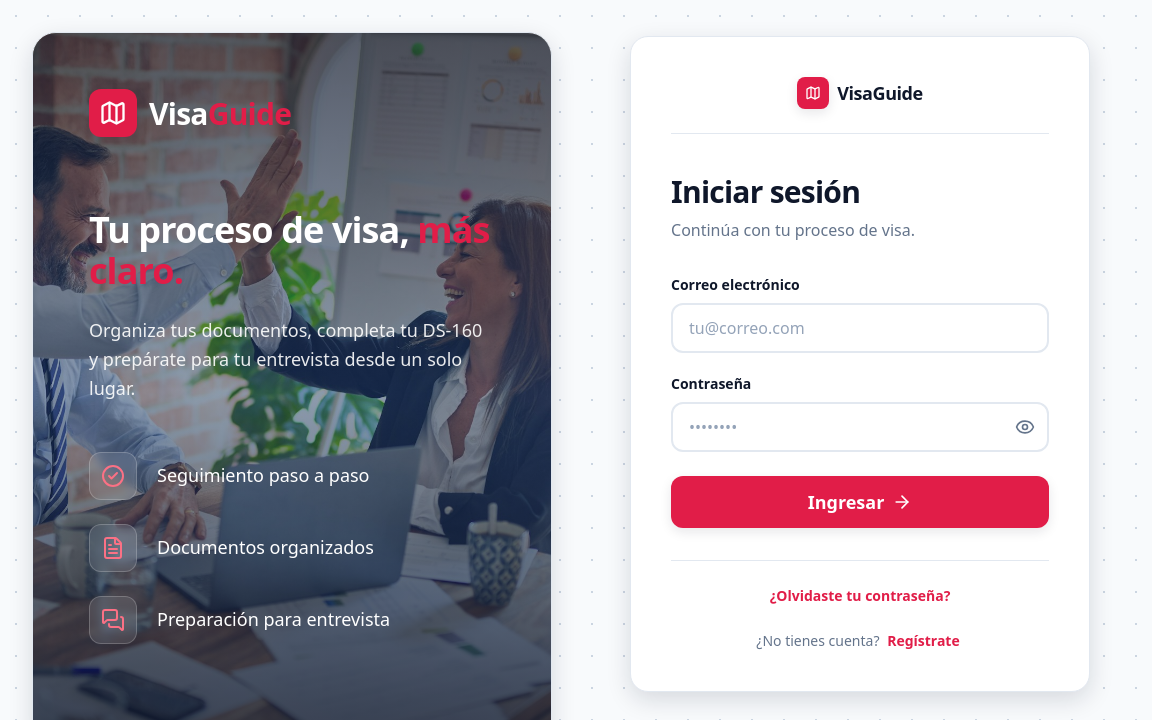
Test: pantallas de autenticación › permite solicitar la recuperación de contraseña desde el login
The image size is (1152, 720).
Click the link "¿Olvidaste tu contraseña?".
click(860, 596)  # box [766,582,954,609]
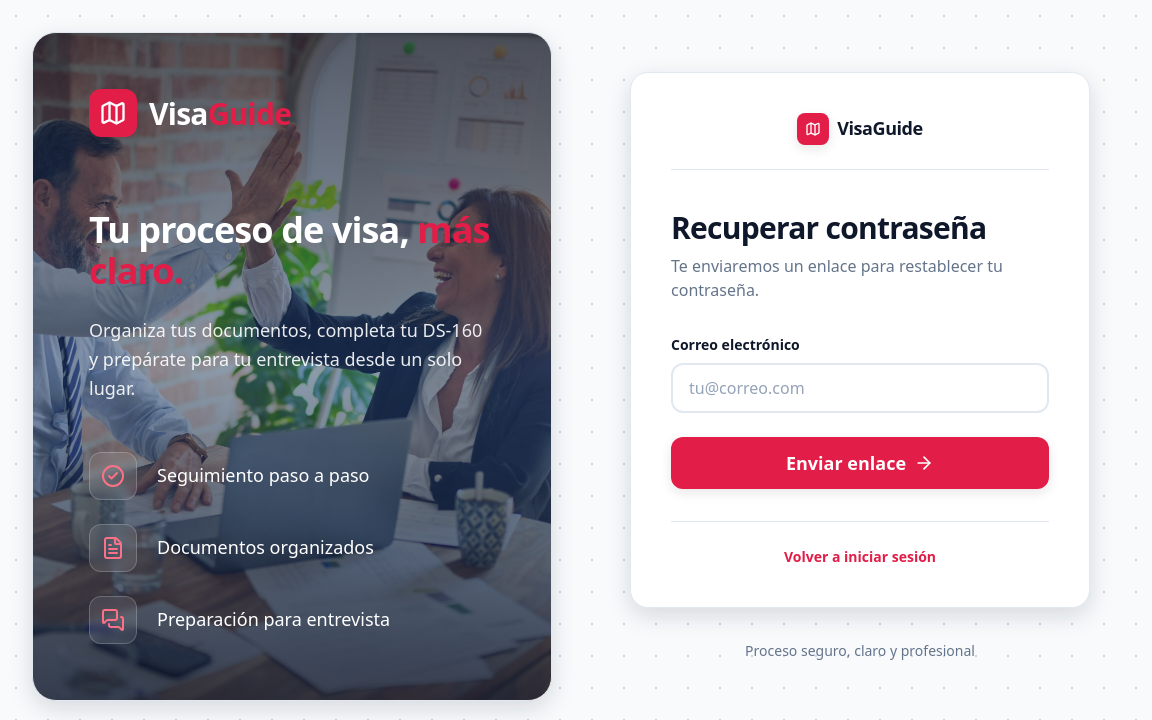
expect the heading "Recuperar contraseña" is shown: met, box [671,207,986,248]
